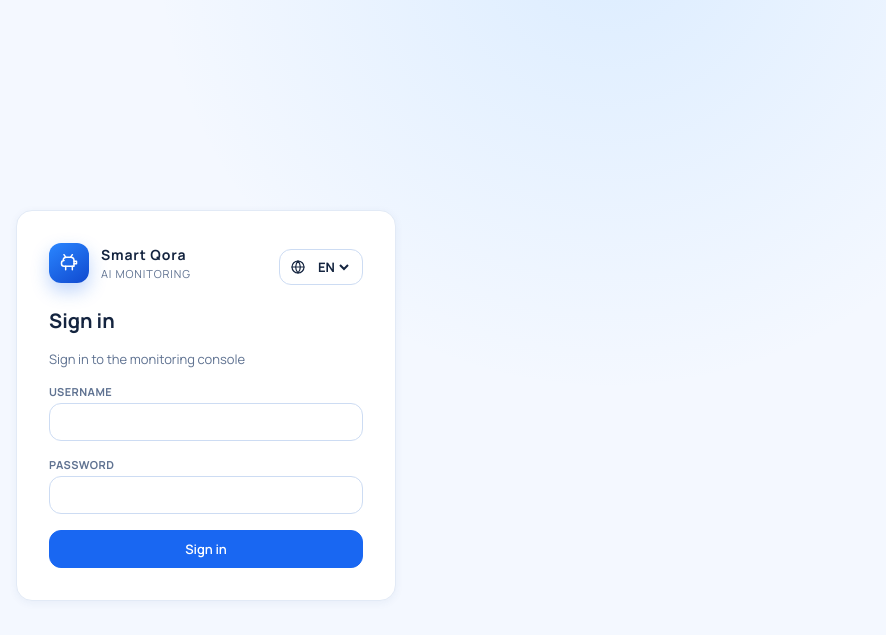
Test case: Login › shows an error on bad credentials
In the field labelled "Username": (206, 422) [49,402,363,440], type "admin"
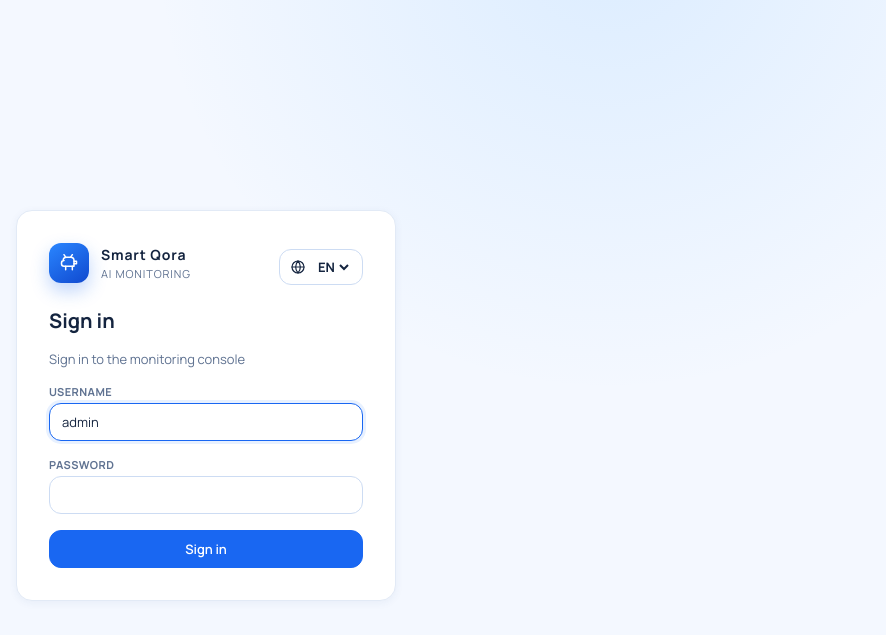
In the password field labelled "Password": (206, 494) [49,476,363,514], type "wrong"
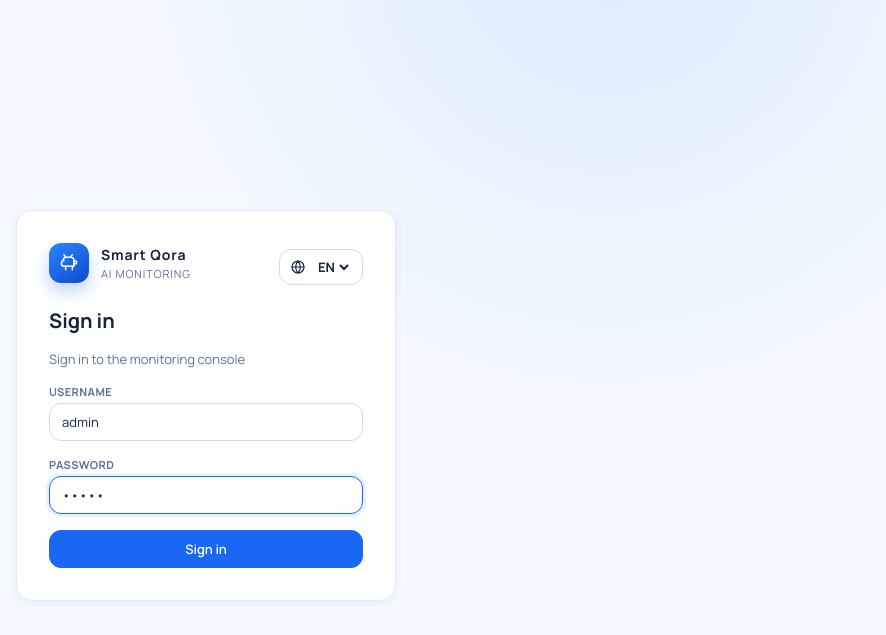
Click the button "Sign in": (206, 548) [49,530,363,568]
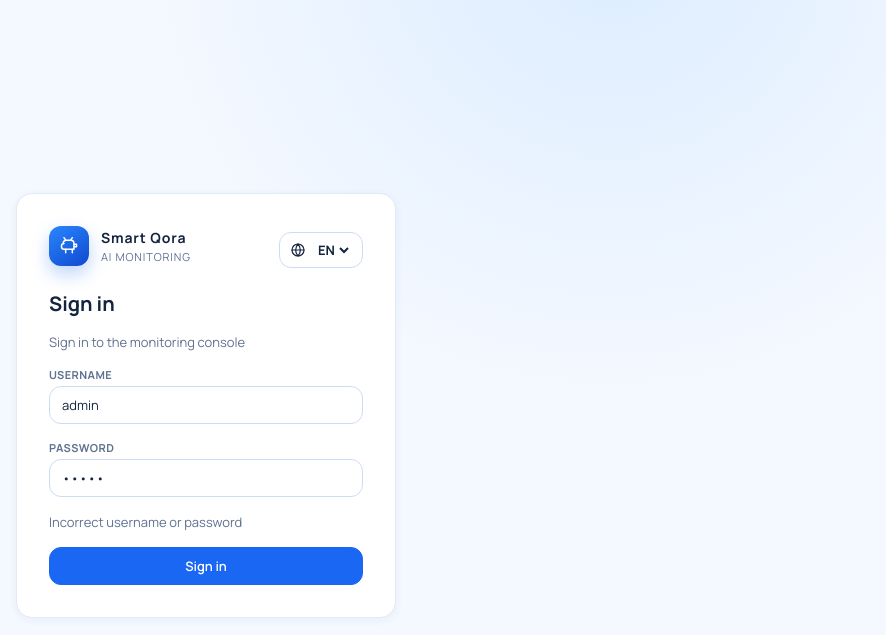
Result: the text "Incorrect username or password" is shown at [49,512,242,530]
